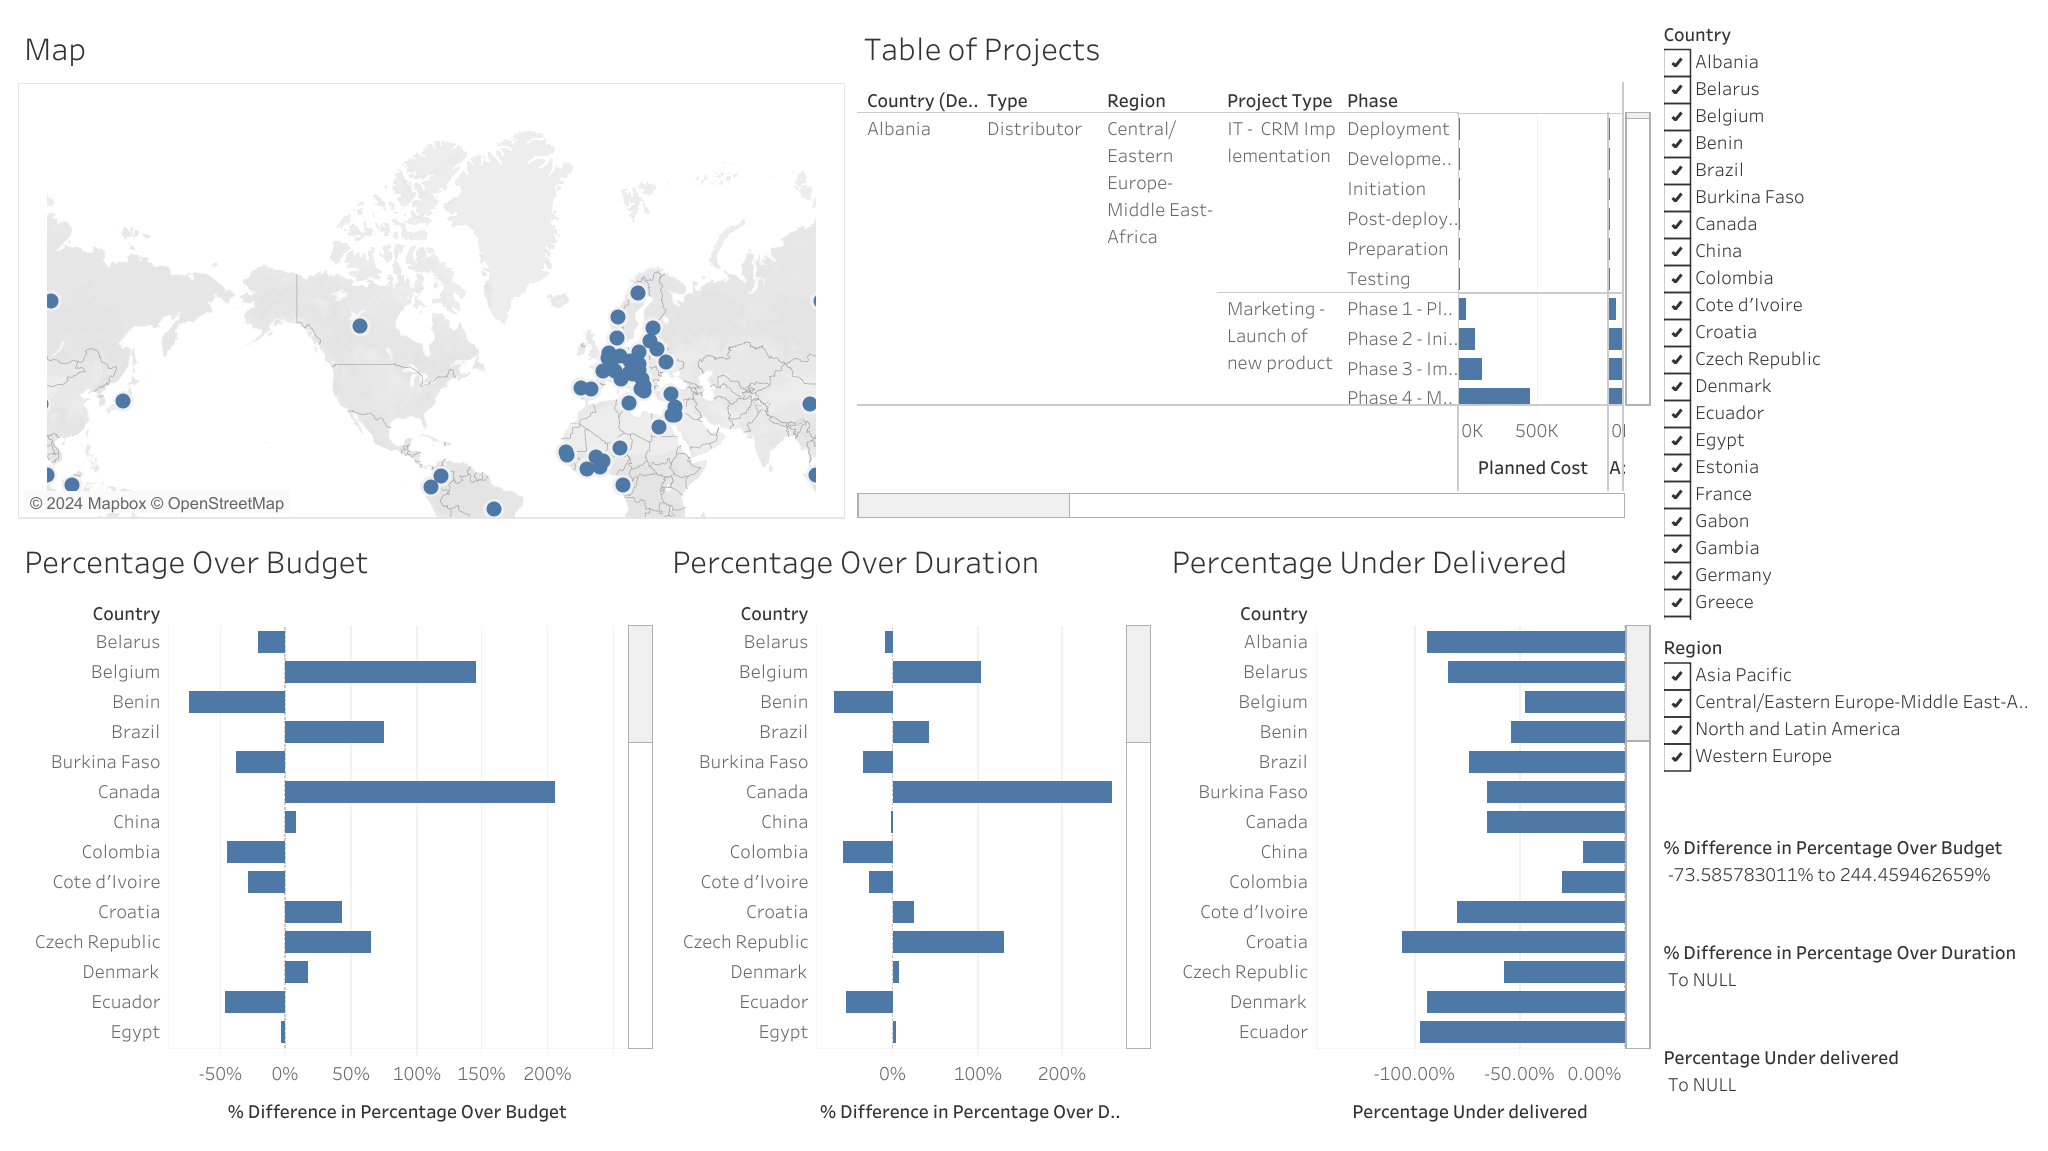

The page's visual inventory and layout, read from the dashboard file:
{"tool":"tableau","page":{"name":"Dashboard","canvas":[1366,768],"ordinal":0},"visuals":[{"type":"worksheet","title":"Map","mark":"Multipolygon","box":[8,8,559.6,342]},{"type":"worksheet","title":"Table of Projects","mark":"Bar","rows":["Country (Dental_Pharma-CountryProfile.csv)","Type","Region","Project Type","Phase"],"cols":["Planned_Cost","Actual_Cost","Planned_Duration","Actual_Duration"],"box":[567.6,8,537.4,342]},{"type":"filter","title":"Map","param":"[federated.0ui0yhf0fu863n1amfgz00b9sk11].[none:Country:nk]","box":[1105,8,253,409]},{"type":"worksheet","title":"Percentage Over Budget","mark":"Automatic","rows":["Country"],"cols":["Calculation_322570369521647638"],"box":[8,350,432,410]},{"type":"worksheet","title":"Percentage Over Duration","mark":"Automatic","rows":["Country"],"cols":["Calculation_322570369524543512"],"box":[440,350,332.5,410]},{"type":"worksheet","title":"Percentage Under Delivered","mark":"Automatic","rows":["Country"],"cols":["Var_Deliverables"],"box":[772.5,350,332.5,410]},{"type":"filter","title":"Table of Projects","param":"[federated.0ui0yhf0fu863n1amfgz00b9sk11].[none:Region:nk]","box":[1105,417,253,133]},{"type":"filter","title":"Percentage Over Budget","param":"[federated.0ui0yhf0fu863n1amfgz00b9sk11].[pcdf:sum:Calculation_32257036952164763","box":[1105,550,253,70]},{"type":"filter","title":"Percentage Over Duration","param":"[federated.0ui0yhf0fu863n1amfgz00b9sk11].[pcdf:sum:Calculation_32257036952454351","box":[1105,620,253,70]},{"type":"filter","title":"Percentage Under Delivered","param":"[federated.0ui0yhf0fu863n1amfgz00b9sk11].[sum:Var_Deliverables:qk]","box":[1105,690,253,70]}]}

Visuals, with their boxes in screenshot pixels (x1, y1, x2, y2), scaled from the page's 1366x768 canvas onto the 2048x1151 screenshot:
"Map" worksheet (Multipolygon marks): {"left": 12, "top": 12, "right": 851, "bottom": 525}
"Table of Projects" worksheet (Bar marks): {"left": 851, "top": 12, "right": 1657, "bottom": 525}
"Map" filter: {"left": 1657, "top": 12, "right": 2036, "bottom": 625}
"Percentage Over Budget" worksheet: {"left": 12, "top": 525, "right": 660, "bottom": 1139}
"Percentage Over Duration" worksheet: {"left": 660, "top": 525, "right": 1158, "bottom": 1139}
"Percentage Under Delivered" worksheet: {"left": 1158, "top": 525, "right": 1657, "bottom": 1139}
"Table of Projects" filter: {"left": 1657, "top": 625, "right": 2036, "bottom": 824}
"Percentage Over Budget" filter: {"left": 1657, "top": 824, "right": 2036, "bottom": 929}
"Percentage Over Duration" filter: {"left": 1657, "top": 929, "right": 2036, "bottom": 1034}
"Percentage Under Delivered" filter: {"left": 1657, "top": 1034, "right": 2036, "bottom": 1139}
